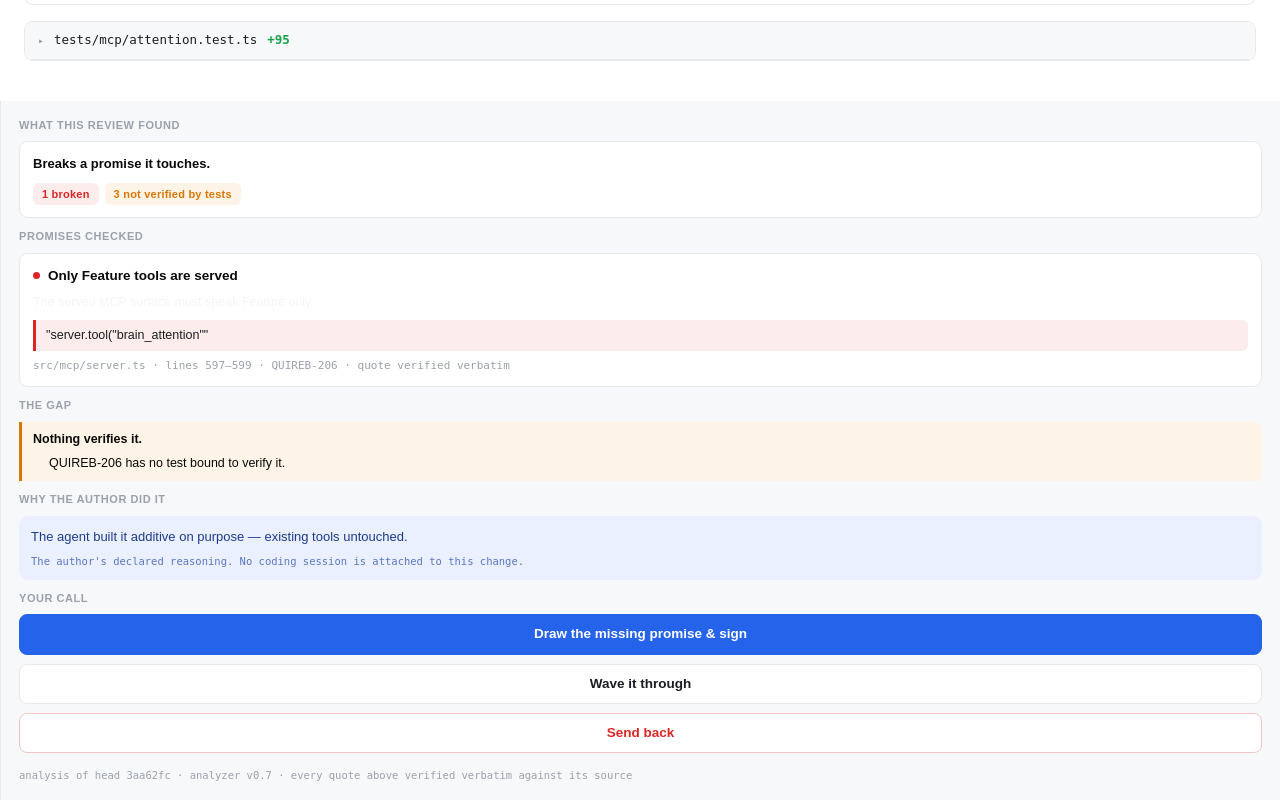
ReviewRoom › signing failure does NOT show 'on the record' and shows an honest error
(page scrolled)
Expected: the text "Your call" is shown, [19,592,88,604]
Click the button "Wave it through": (640, 684) [19,664,1262,704]
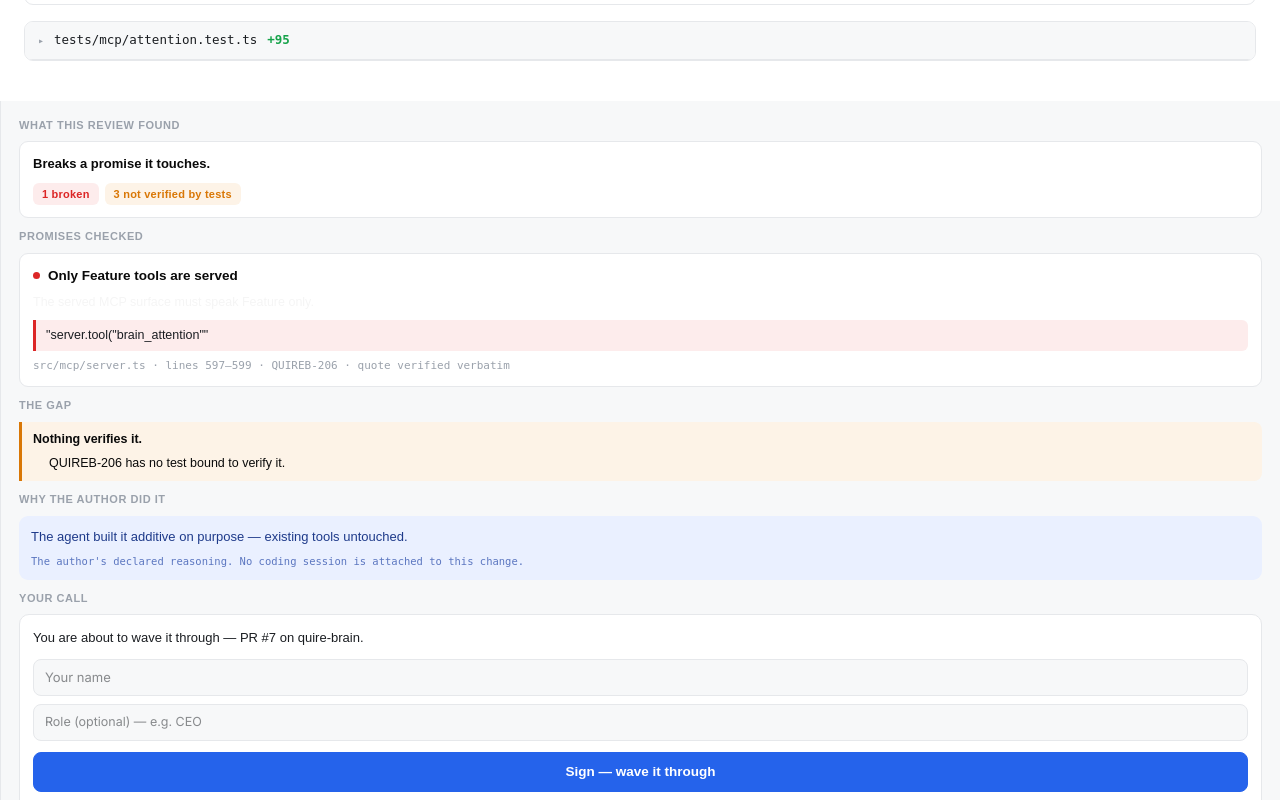
In the field with placeholder "Your name": (640, 678) [33,659,1248,696], type "Gilad"
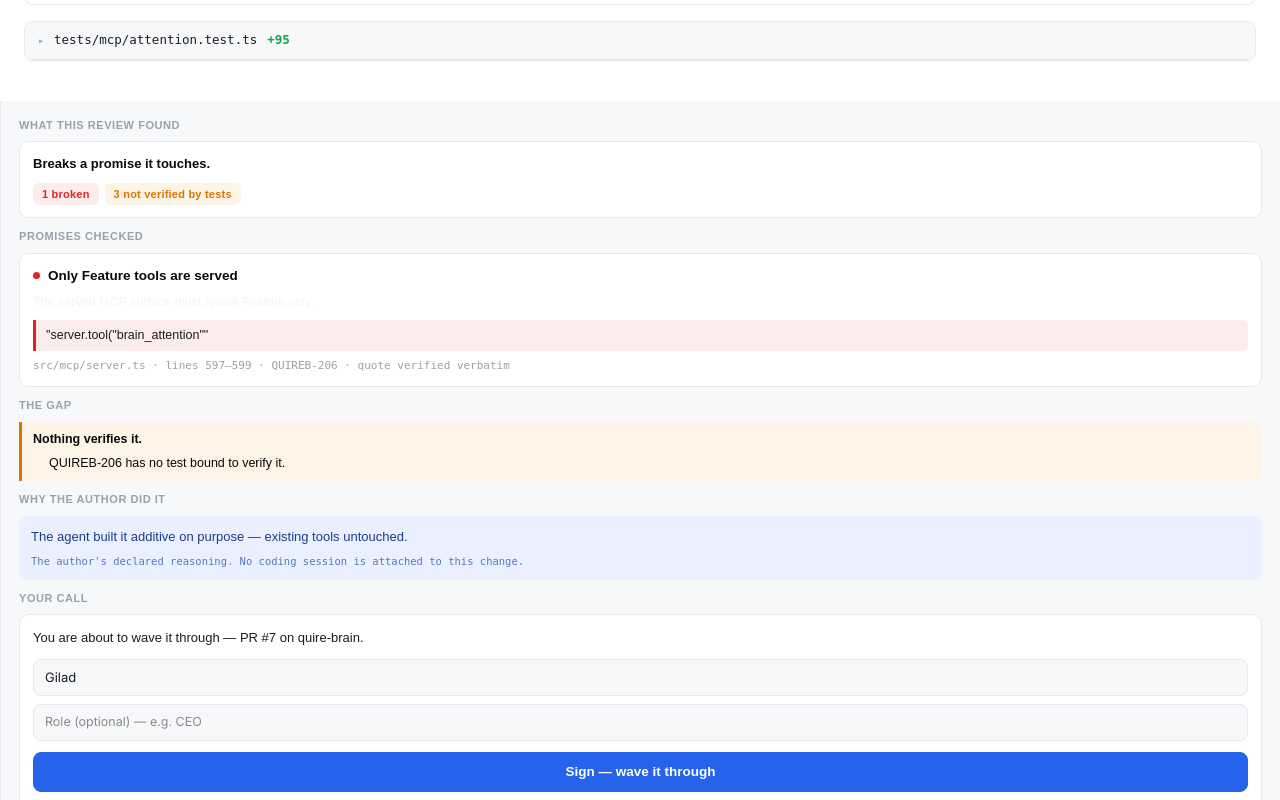
Click the button "Sign — wave it through": (640, 772) [33,752,1248,792]
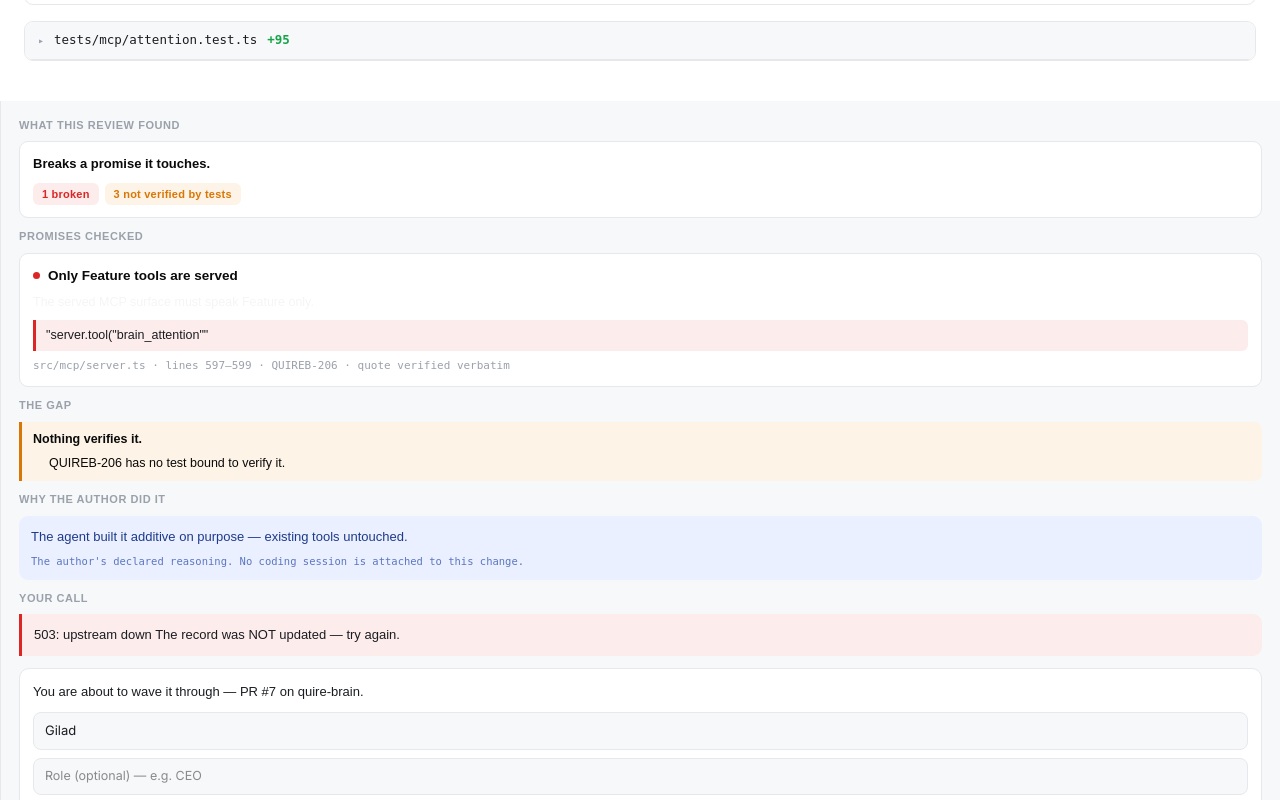
Result: the message "503: upstream down The record was NOT updated — try again." is shown at [19,614,1262,656]
